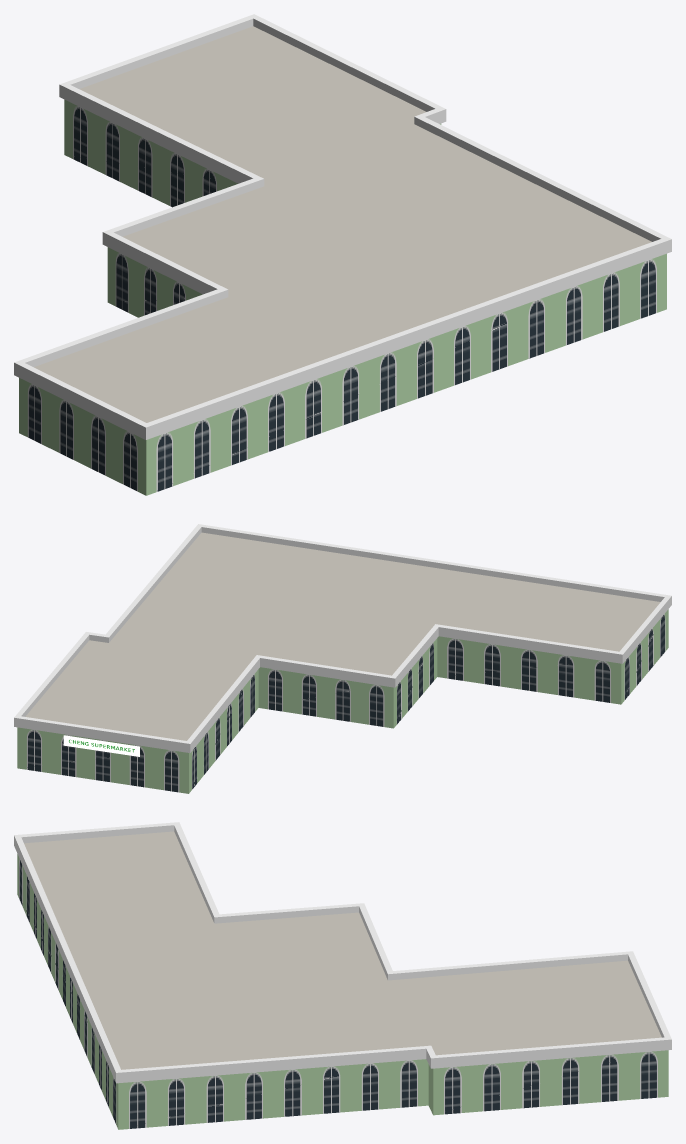
The model's file is chengs.glb.
The picture shows the model from 3 angles, top to bottom: view 1: azimuth 30°, elevation 25°; view 2: azimuth 150°, elevation 25°; view 3: azimuth 270°, elevation 25°; orthographic projection. The views are drawn at different scales.
Parts seen in each view (by area): view 1: chengs_lod0; view 2: chengs_lod0; view 3: chengs_lod0.
Part boxes in pixels (x1,y1,x2,y2): chengs_lod0: (14, 14, 671, 495); chengs_lod0: (14, 524, 671, 793); chengs_lod0: (14, 822, 671, 1129).
Size of what is drawn, in the model's own units: 51.68 by 5.6 by 57.28.
Materials: 4 (2 with a texture image).
